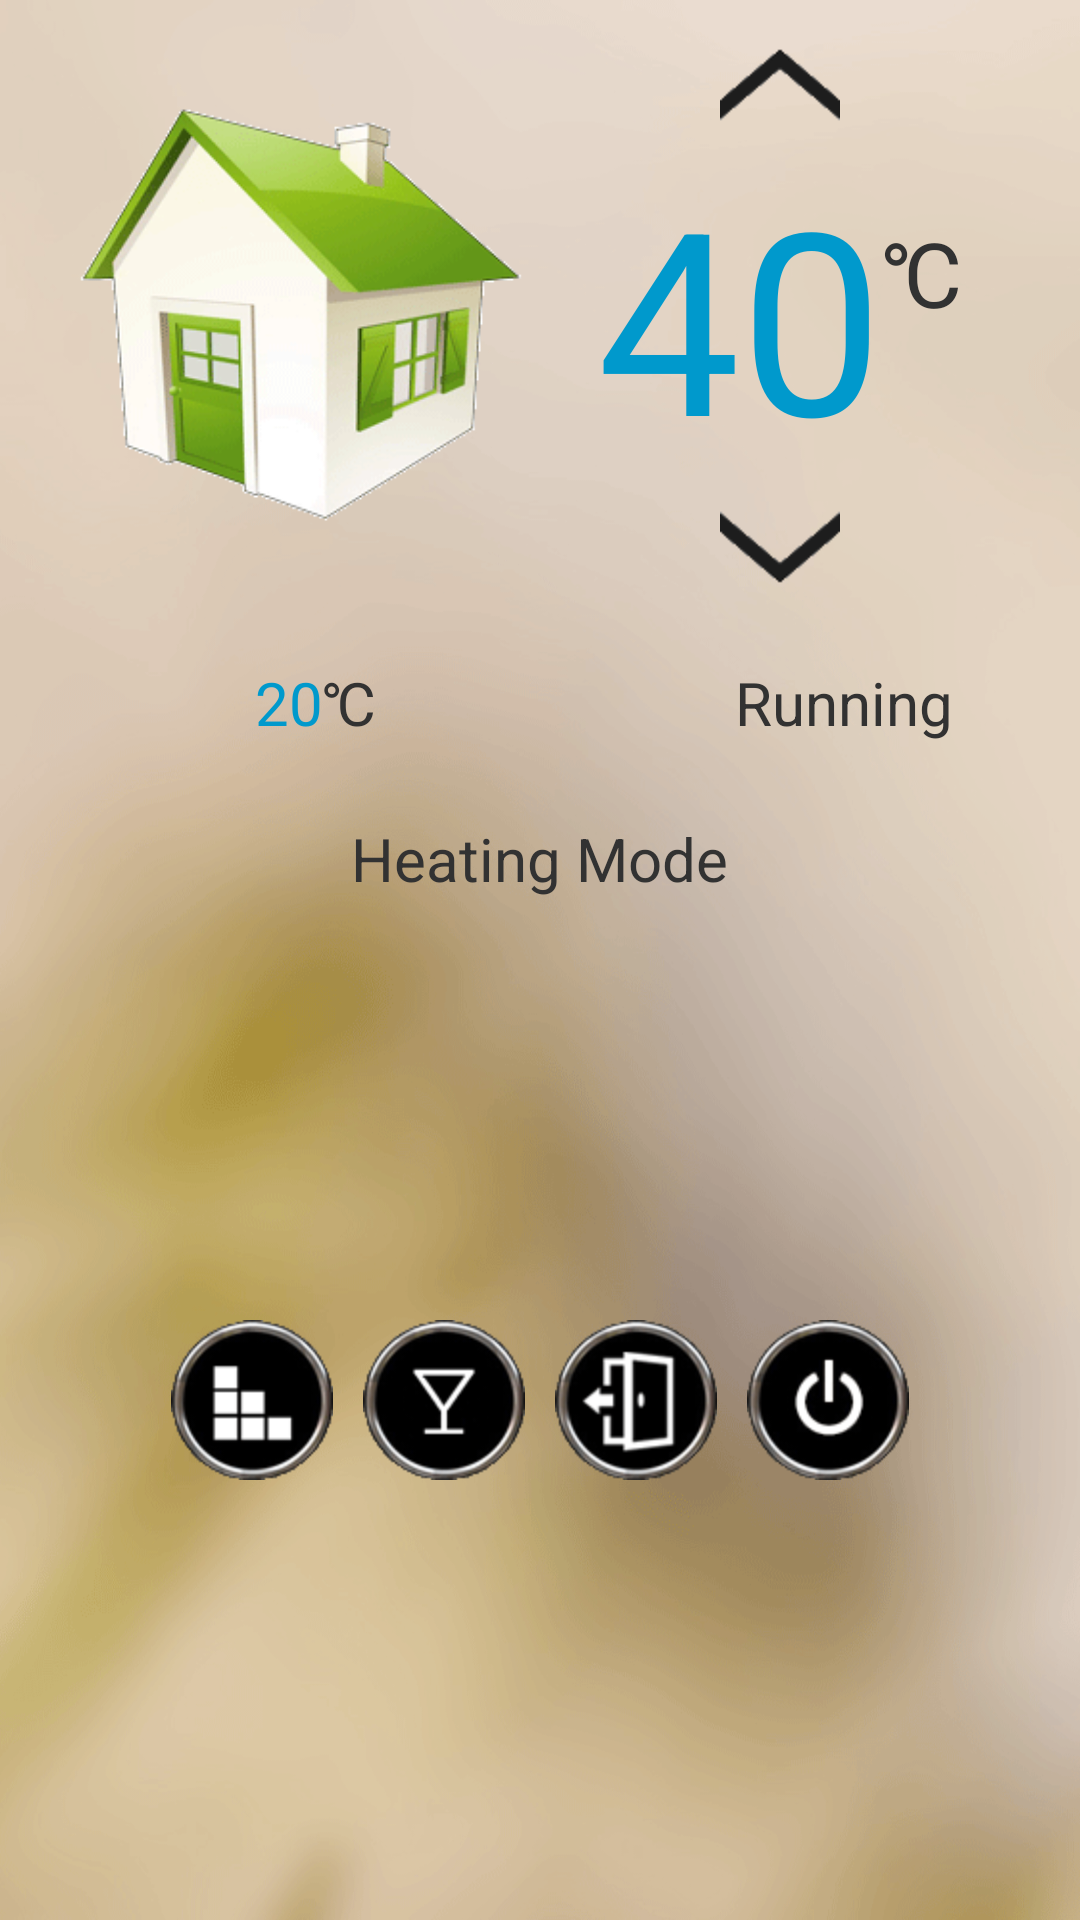

Point at icon controls on the screen. Image size 1080 x 1920, points as [x,y].
down: [780,547]
out: [636,1400]
